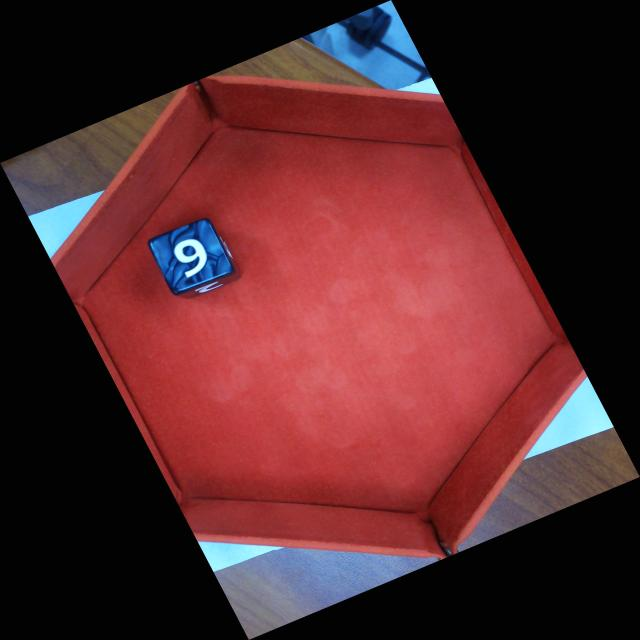dice: (144, 215, 236, 297)
